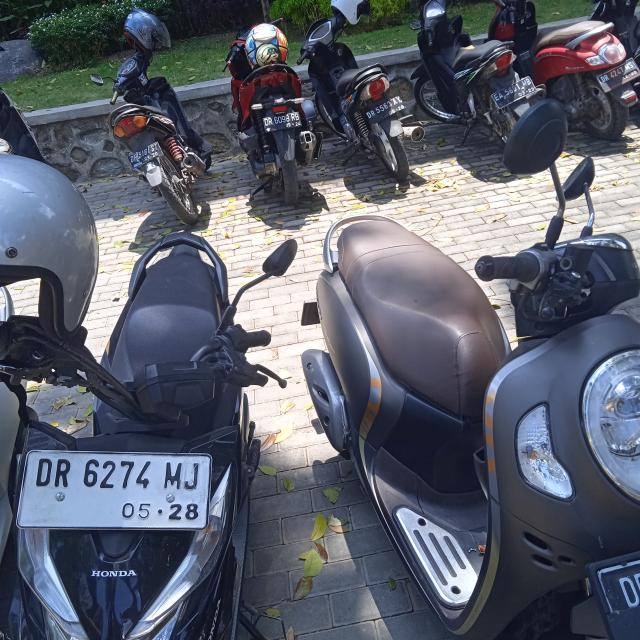plate: (15, 448, 212, 532), (597, 57, 640, 94), (491, 75, 537, 109), (364, 94, 407, 124), (128, 140, 165, 171), (263, 111, 302, 134)
